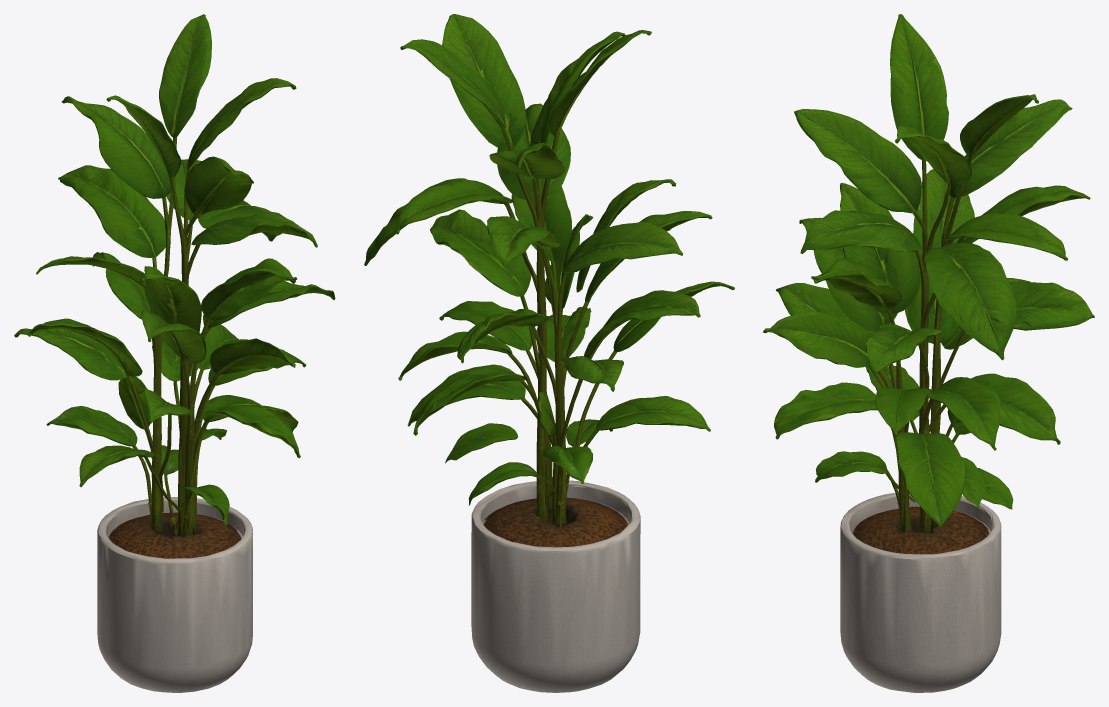
Rendered from indoor_plant_decor.glb.
3 views of the same model, side by side, from view 1: azimuth 30°, elevation 25°; view 2: azimuth 150°, elevation 25°; view 3: azimuth 270°, elevation 25° (orthographic). The views are drawn at different scales.
Parts seen in each view (by area): view 1: Object_2; view 2: Object_2; view 3: Object_2.
Part boxes in pixels (box(x1,y1,x2,y2)): Object_2: box(14, 14, 335, 692); Object_2: box(364, 14, 734, 692); Object_2: box(763, 14, 1094, 692).
Bounding box in the file's own units: 1.19 × 2.43 × 1.19.
Materials: 1 (1 with a texture image).
